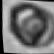correct: (2, 1, 54, 48)
